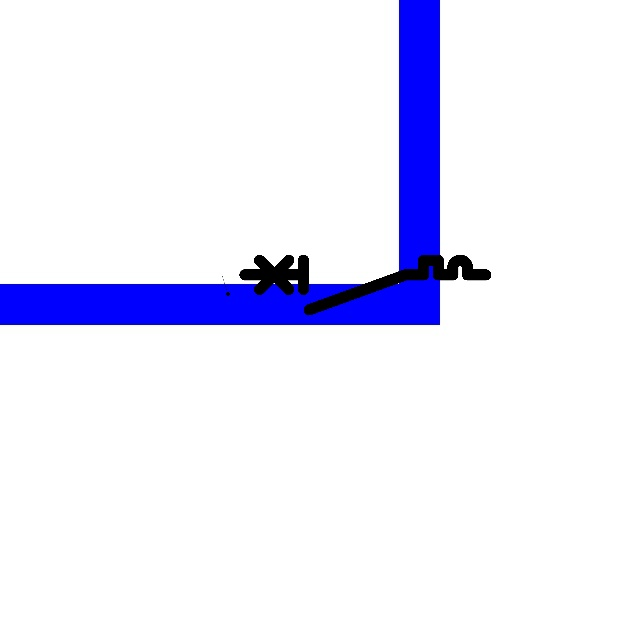interruptor_termomagnetico: (238, 254, 491, 316)
